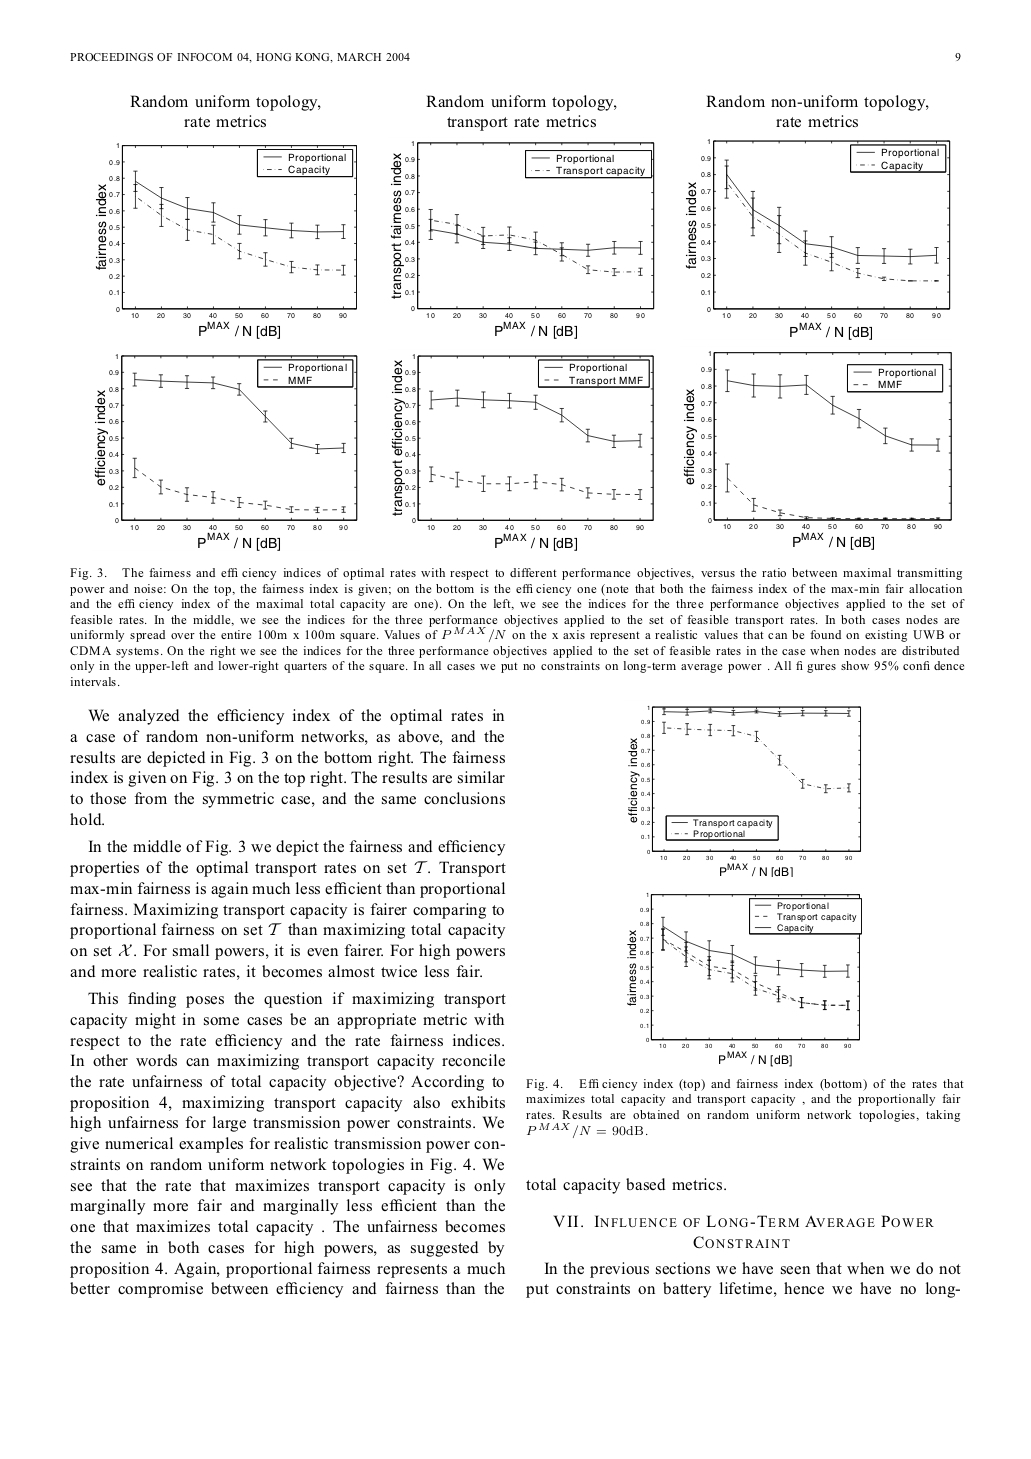figure: (683, 350, 951, 550), (685, 139, 950, 339), (94, 352, 357, 551), (391, 141, 654, 338), (391, 354, 653, 550), (95, 143, 356, 338), (627, 891, 861, 1067), (628, 705, 860, 876)
formula: (526, 1123, 647, 1137)
